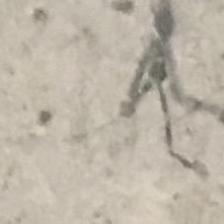Non_Crack: (18, 9, 106, 210)
